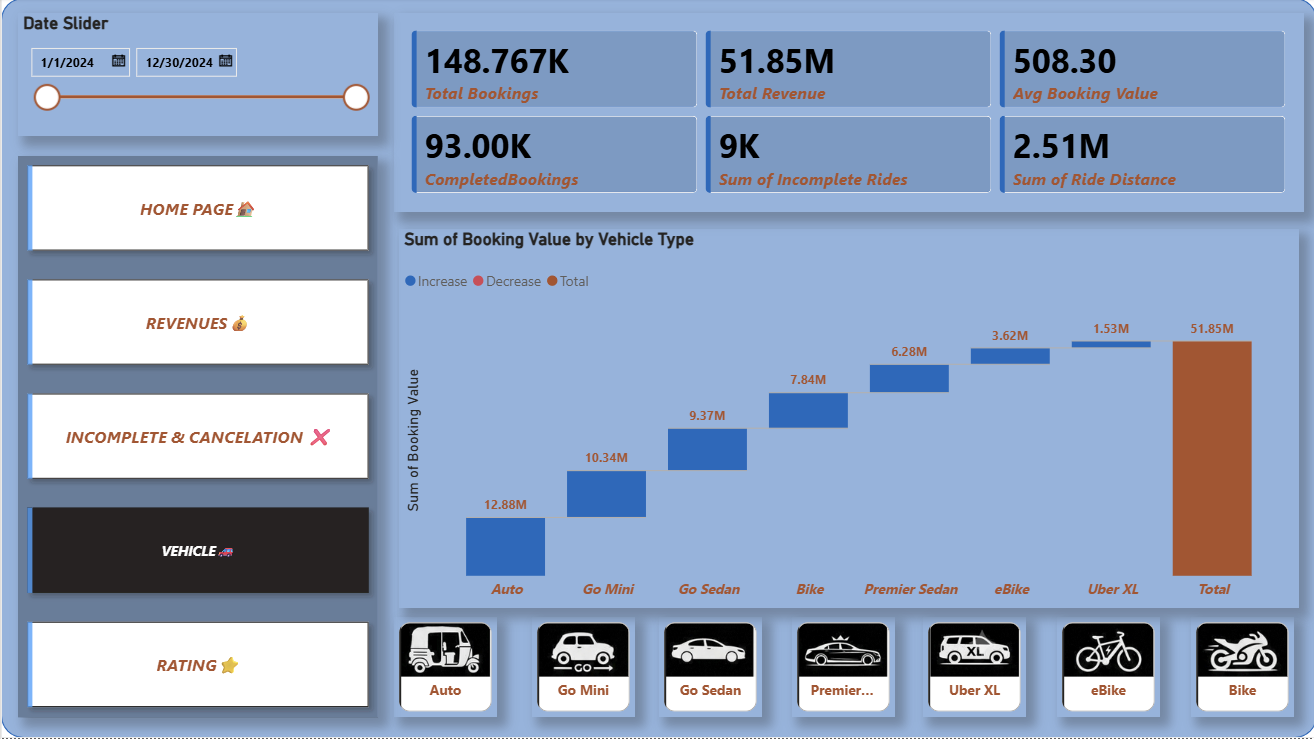

The dashboard page shown, as its layout file describes it:
{"tool":"powerbi","page":{"name":"VEHICLE🚗 ","canvas":[1280,720],"ordinal":3},"visuals":[{"type":"shape","box":[0,0,1280,719.8],"z":0},{"type":"slicer","title":"Date Slider","fields":{"Values":["ncr_ride_bookings.Date"]},"box":[16.5,14.6,350.2,119.6],"z":1000},{"type":"pageNavigator","title":"REVENUE","box":[16.5,153.7,350.2,545.7],"z":2000},{"type":"advancedSlicerVisual","fields":{"Values":["ncr_ride_bookings.Vehicle Type"]},"box":[382.2,602.1,100.2,97.3],"z":3000},{"type":"cardVisual","fields":{"Data":["Count(ncr_ride_bookings.Booking ID)","Sum(ncr_ride_bookings.Booking Value)","Avg(ncr_ride_bookings.Booking Value)","ncr_ride_bookings.CompletedBookings","Sum(ncr_ride_bookings.Incomplete Rides)","Sum(ncr_ride_bookings.Ride Distance)"]},"box":[382.2,14.6,885.1,193.6],"z":4000},{"type":"waterfallChart","fields":{"Category":["ncr_ride_bookings.Vehicle Type"],"Y":["Sum(ncr_ride_bookings.Booking Value)"]},"box":[387.1,224.7,875.4,368.6],"z":5000},{"type":"advancedSlicerVisual","fields":{"Values":["ncr_ride_bookings.Vehicle Type"]},"box":[516.5,602.1,100.2,97.3],"z":6000},{"type":"advancedSlicerVisual","fields":{"Values":["ncr_ride_bookings.Vehicle Type"]},"box":[640,602.1,100.2,97.3],"z":7000},{"type":"advancedSlicerVisual","fields":{"Values":["ncr_ride_bookings.Vehicle Type"]},"box":[769.4,602.1,100.2,97.3],"z":8000},{"type":"advancedSlicerVisual","fields":{"Values":["ncr_ride_bookings.Vehicle Type"]},"box":[896.8,602.1,100.2,97.3],"z":9000},{"type":"advancedSlicerVisual","fields":{"Values":["ncr_ride_bookings.Vehicle Type"]},"box":[1027.1,602.1,100.2,97.3],"z":10000},{"type":"advancedSlicerVisual","fields":{"Values":["ncr_ride_bookings.Vehicle Type"]},"box":[1157.4,602.1,100.2,97.3],"z":11000}]}

Visuals, with their boxes in screenshot pixels (x1, y1, x2, y2), scaled from the page's 1280x720 canvas onto the 1314x739 screenshot:
shape: <region>0, 0, 1313, 738</region>
"Date Slider" slicer: <region>17, 15, 376, 138</region>
"REVENUE" pageNavigator: <region>17, 158, 376, 718</region>
advancedSlicerVisual - ncr_ride_bookings.Vehicle Type: <region>392, 618, 495, 718</region>
cardVisual - Count(ncr_ride_bookings.Booking ID) x Sum(ncr_ride_bookings.Booking Value): <region>392, 15, 1301, 214</region>
waterfallChart - ncr_ride_bookings.Vehicle Type x Sum(ncr_ride_bookings.Booking Value): <region>397, 231, 1296, 609</region>
advancedSlicerVisual - ncr_ride_bookings.Vehicle Type: <region>530, 618, 633, 718</region>
advancedSlicerVisual - ncr_ride_bookings.Vehicle Type: <region>657, 618, 760, 718</region>
advancedSlicerVisual - ncr_ride_bookings.Vehicle Type: <region>790, 618, 893, 718</region>
advancedSlicerVisual - ncr_ride_bookings.Vehicle Type: <region>921, 618, 1023, 718</region>
advancedSlicerVisual - ncr_ride_bookings.Vehicle Type: <region>1054, 618, 1157, 718</region>
advancedSlicerVisual - ncr_ride_bookings.Vehicle Type: <region>1188, 618, 1291, 718</region>
